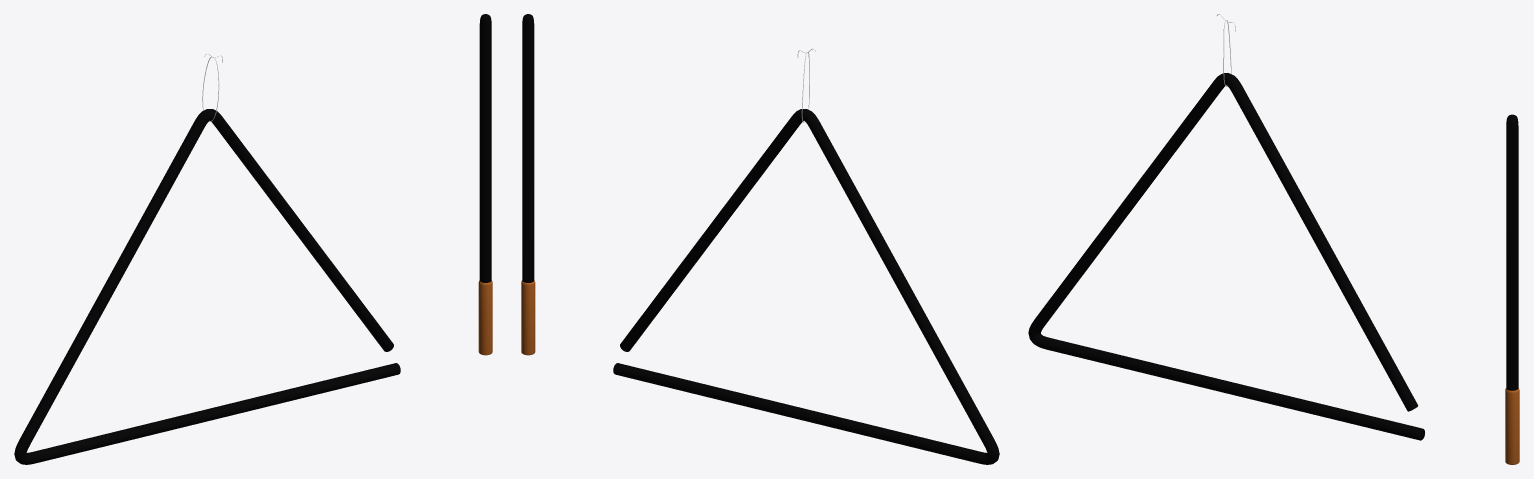
File: triangle.glb
The picture shows the model from 3 angles, left to right: view 1: azimuth 30°, elevation 25°; view 2: azimuth 150°, elevation 25°; view 3: azimuth 330°, elevation 25°; orthographic projection. The views are drawn at different scales.
Parts seen in each view (by area): view 1: triangel_scanline_max2011; view 2: triangel_scanline_max2011; view 3: triangel_scanline_max2011.
Boxes of the visible parts, x1=… form: triangel_scanline_max2011: x1=14, y1=14, x2=492, y2=464; triangel_scanline_max2011: x1=521, y1=14, x2=999, y2=464; triangel_scanline_max2011: x1=1028, y1=14, x2=1519, y2=464.
Size of the model in its own units: 0.8224 by 0.6108 by 0.0356.
3 materials, 1 textured.
